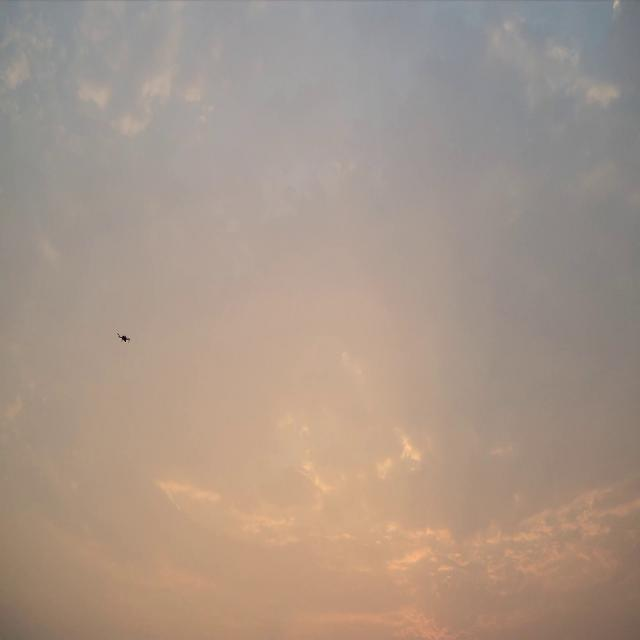drone: (116, 333, 132, 343)
